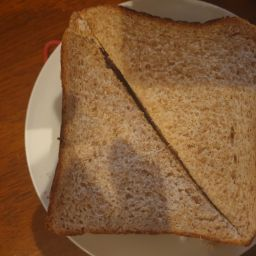Breads: (45, 4, 256, 249), (149, 9, 255, 256), (58, 15, 161, 240)
